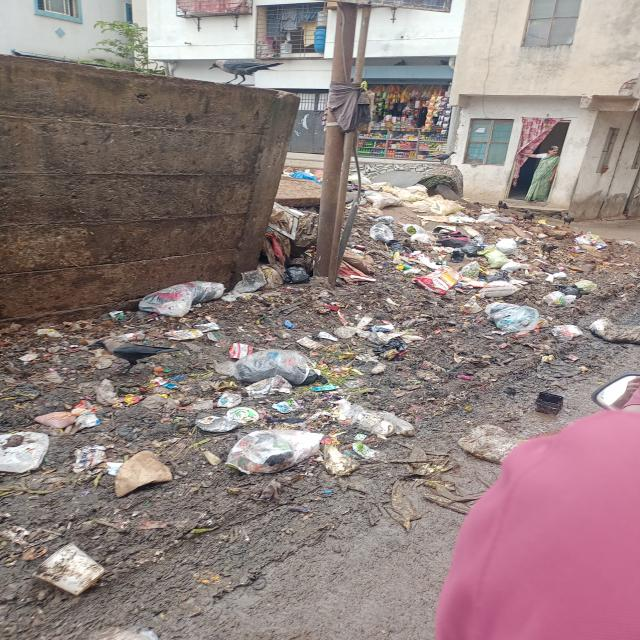garbage: (4, 272, 336, 577), (352, 178, 567, 378)
